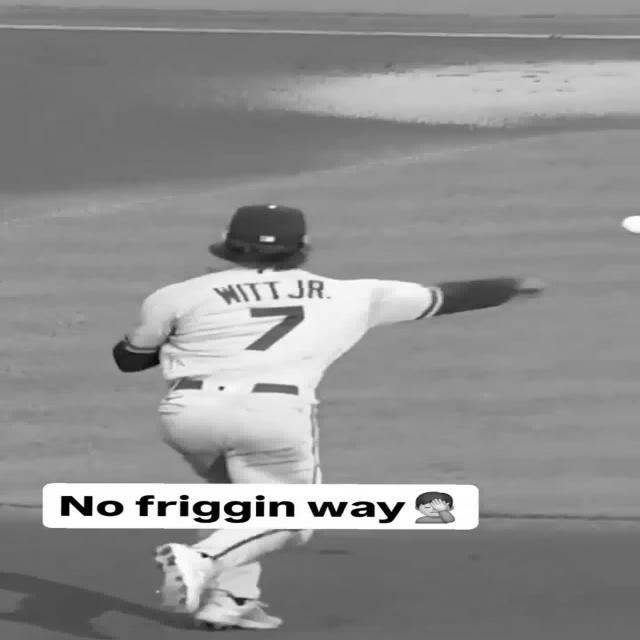baseball: (622, 215, 640, 234)
shoe: (156, 542, 216, 614), (196, 589, 282, 630)
